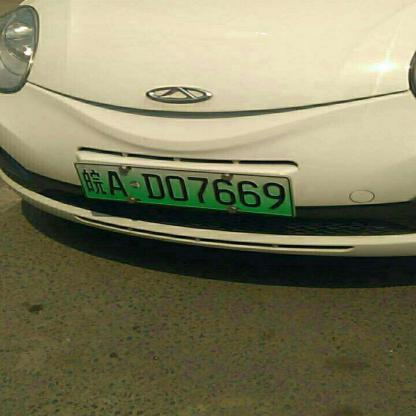lp: (74, 164, 293, 216)
